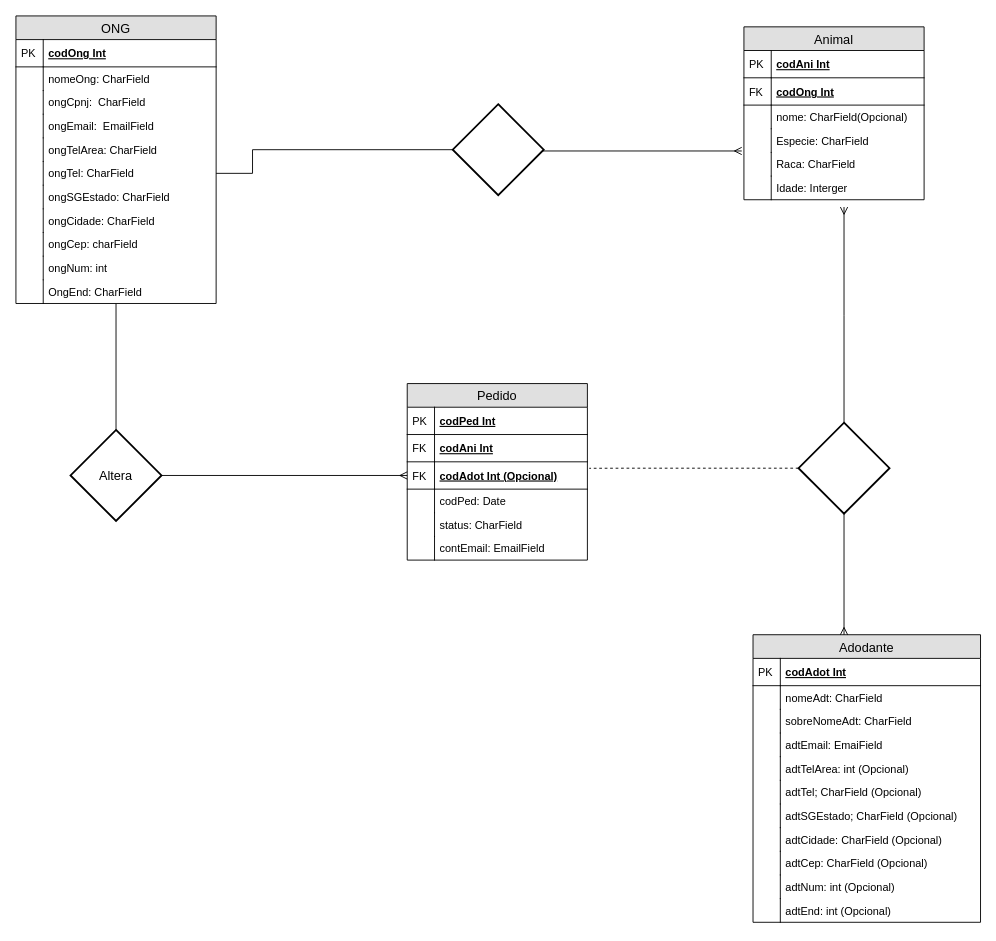
Some shapes in this 996 by 941 pixel diagram are drawn without their labels. Each missing label, with the centre of its shape:
"Adota" belongs at point 843,467.
"Registra" belongs at point 497,149.
